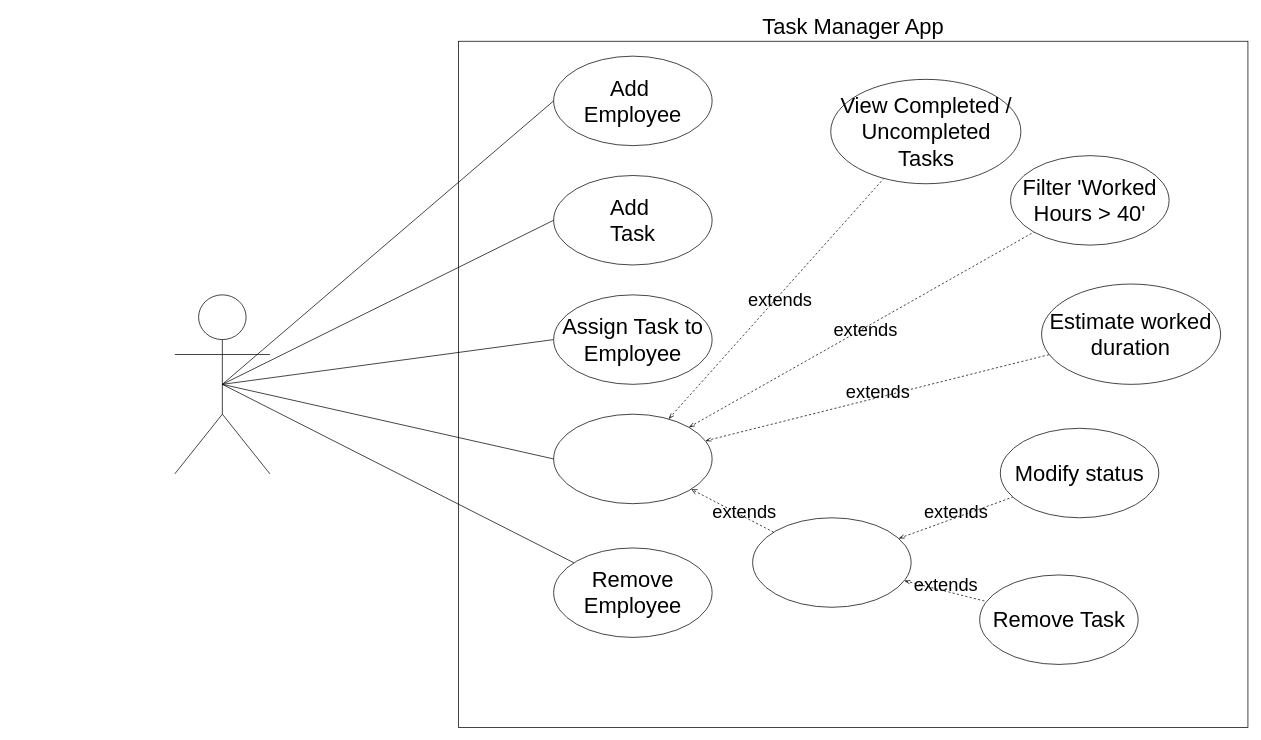
Image size: 1261x740. Some labels were removed from this diagram. The centre of each missing label's shape, as x and y in pixels:
Project Manager: the point at 222,384
View Employees: the point at 632,458
View Tasks: the point at 831,562
